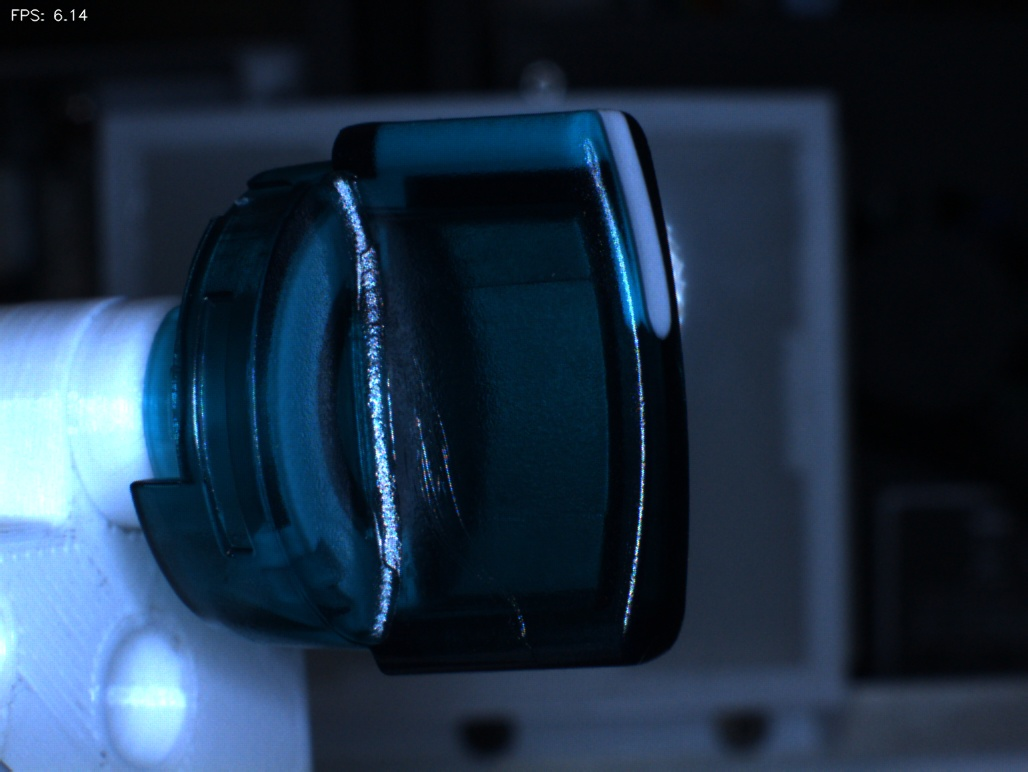Givrage: (396, 348, 488, 537), (417, 544, 540, 648)
